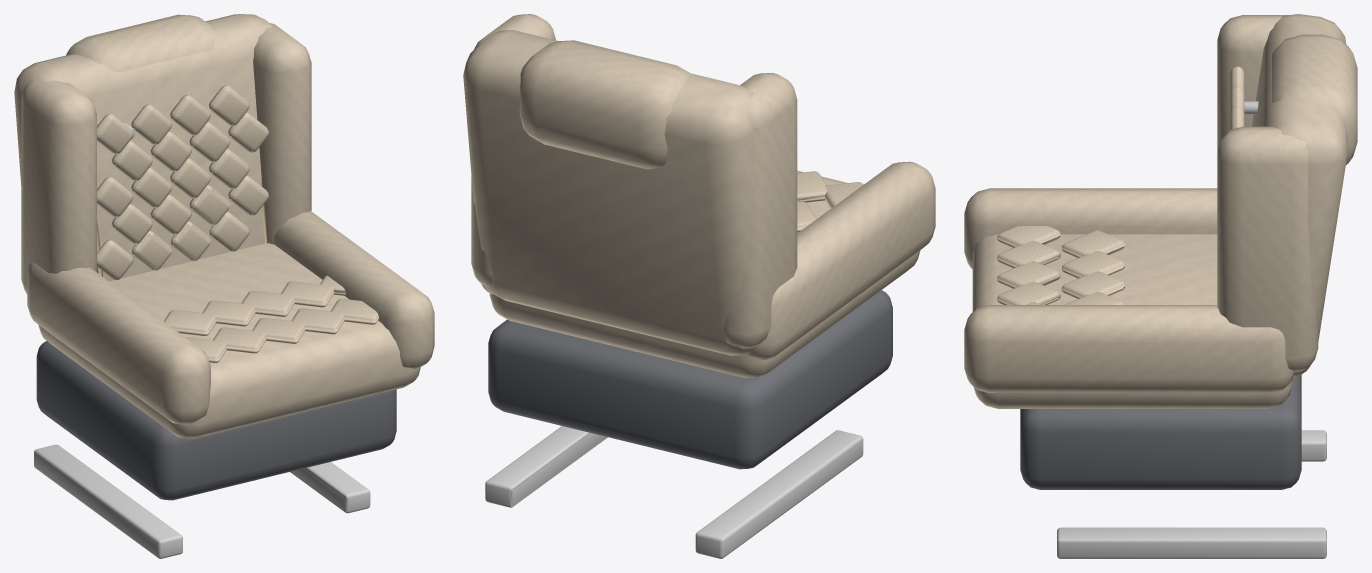
Rendered from r51-seat.glb.
3 renders of one model, left to right at view 1: azimuth 30°, elevation 25°; view 2: azimuth 150°, elevation 25°; view 3: azimuth 270°, elevation 25°, orthographic. The views are drawn at different scales.
Parts seen in each view (by area): view 1: seat__IvoryLeather, seat__DarkLeather, seat__BrushedMetal; view 2: seat__IvoryLeather, seat__DarkLeather, seat__BrushedMetal; view 3: seat__IvoryLeather, seat__DarkLeather, seat__BrushedMetal.
Part boxes in pixels (x1=…): seat__IvoryLeather: x1=14, y1=14, x2=434, y2=438; seat__DarkLeather: x1=36, y1=341, x2=396, y2=500; seat__BrushedMetal: x1=34, y1=123, x2=370, y2=558; seat__IvoryLeather: x1=463, y1=14, x2=935, y2=378; seat__DarkLeather: x1=488, y1=290, x2=892, y2=469; seat__BrushedMetal: x1=485, y1=426, x2=863, y2=558; seat__IvoryLeather: x1=964, y1=14, x2=1357, y2=408; seat__DarkLeather: x1=1020, y1=375, x2=1301, y2=489; seat__BrushedMetal: x1=1057, y1=101, x2=1326, y2=558.
Size of the model in its own units: 0.59 by 0.87 by 0.7.
4 materials, 1 textured.
